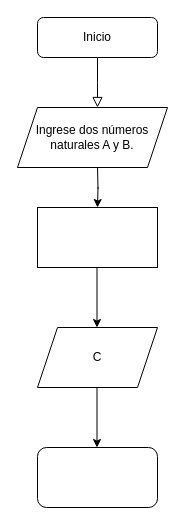
This 185x525 diagram has some shape labels left out. The centre of each missing label's shape, as x and y in pixels:
"A + B = C" belongs at (x=97, y=237).
"Fin" belongs at (x=97, y=477).
